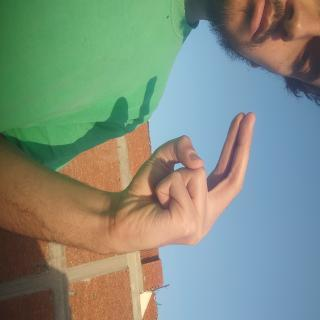ZAY: (81, 80, 198, 289)
